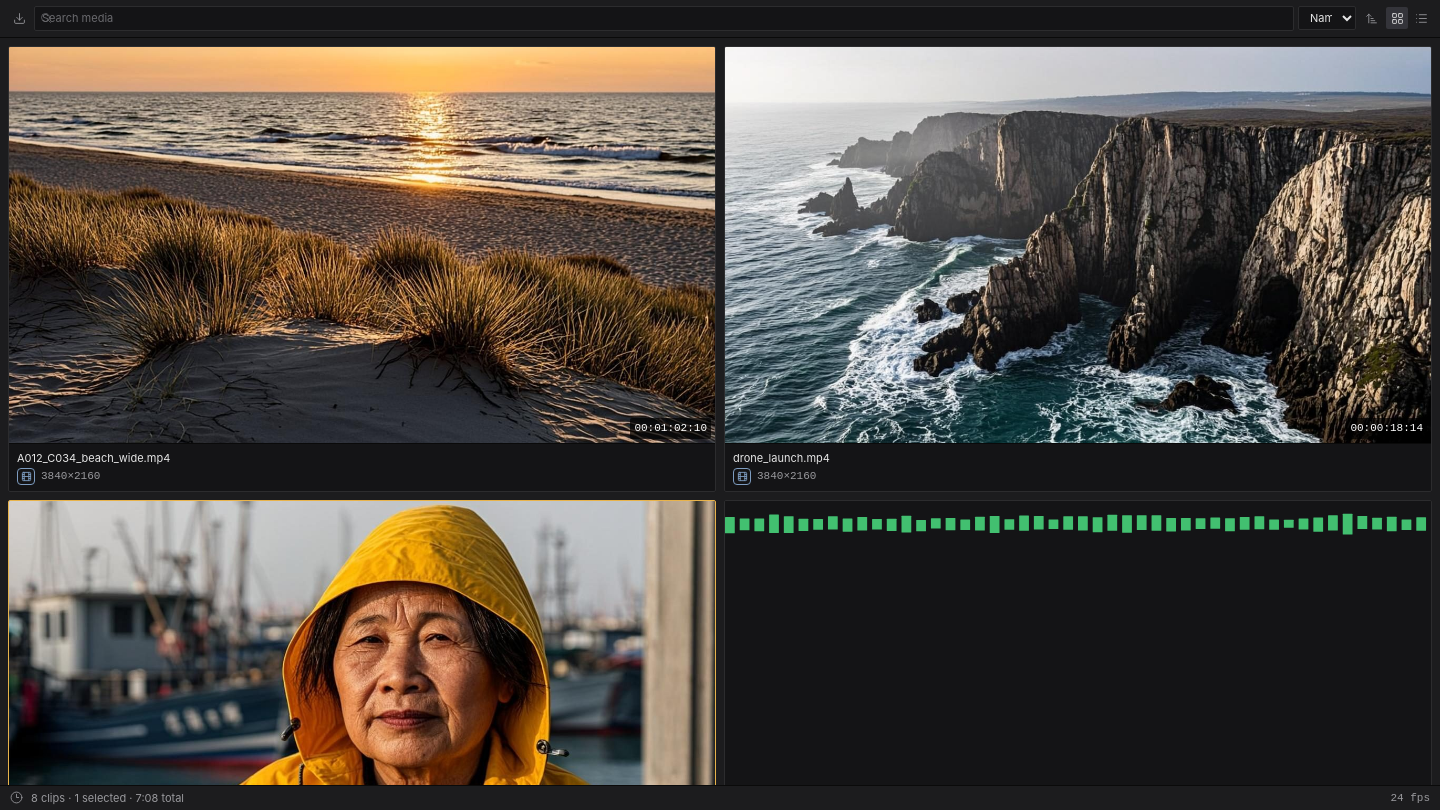
Test case: MediaPool (spec 18 §4.2) › sort select + direction button reorder the list and write the store
Select "Dur." in the dropdown named "Sort media" at {"x": 1327, "y": 18}, box [1298,6,1356,30]
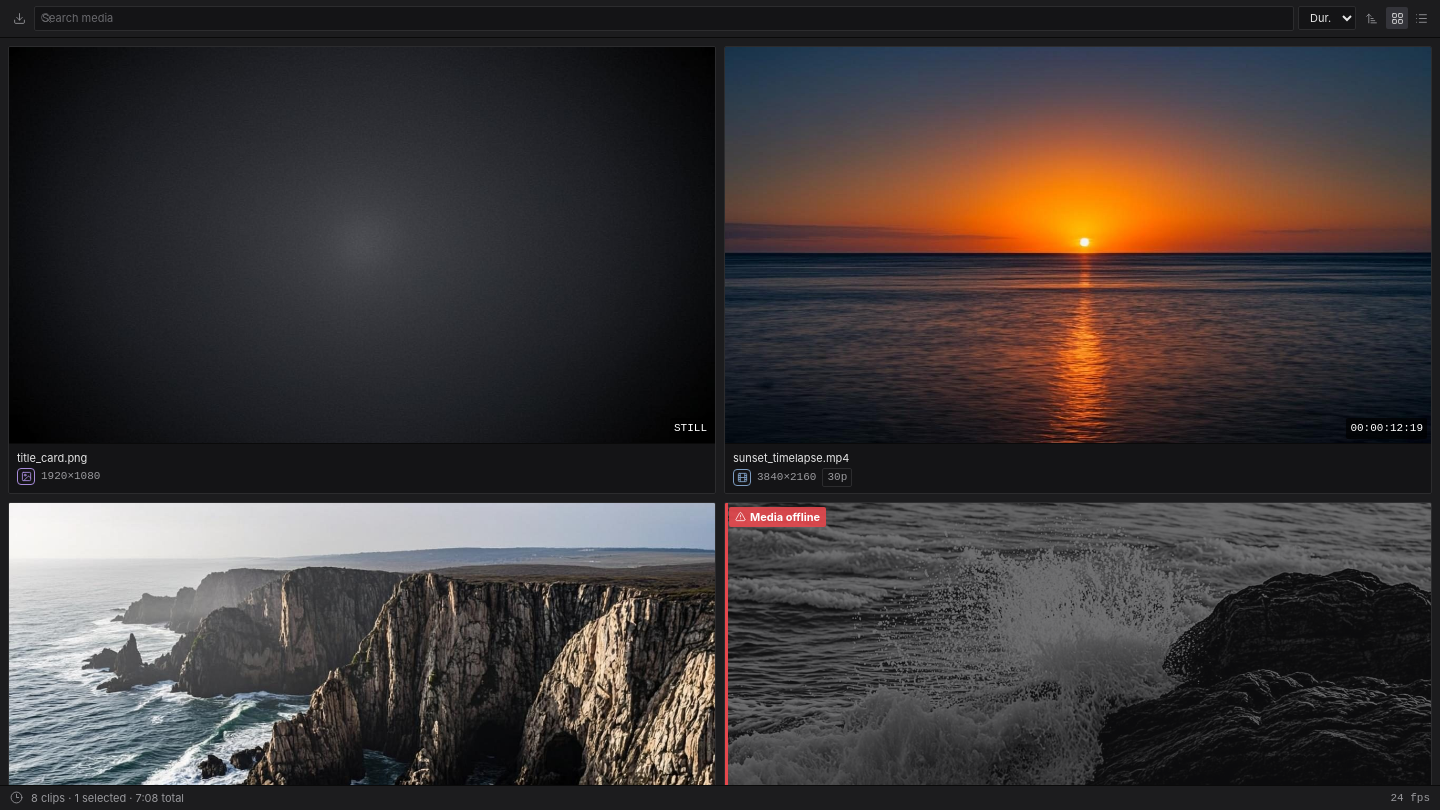
Now the option with test id "shell-mediapool-card" shows "title_card", box [8,46,716,494]
Click the button named "Sort ascending" at {"x": 1371, "y": 18}, box [1360,7,1382,29]
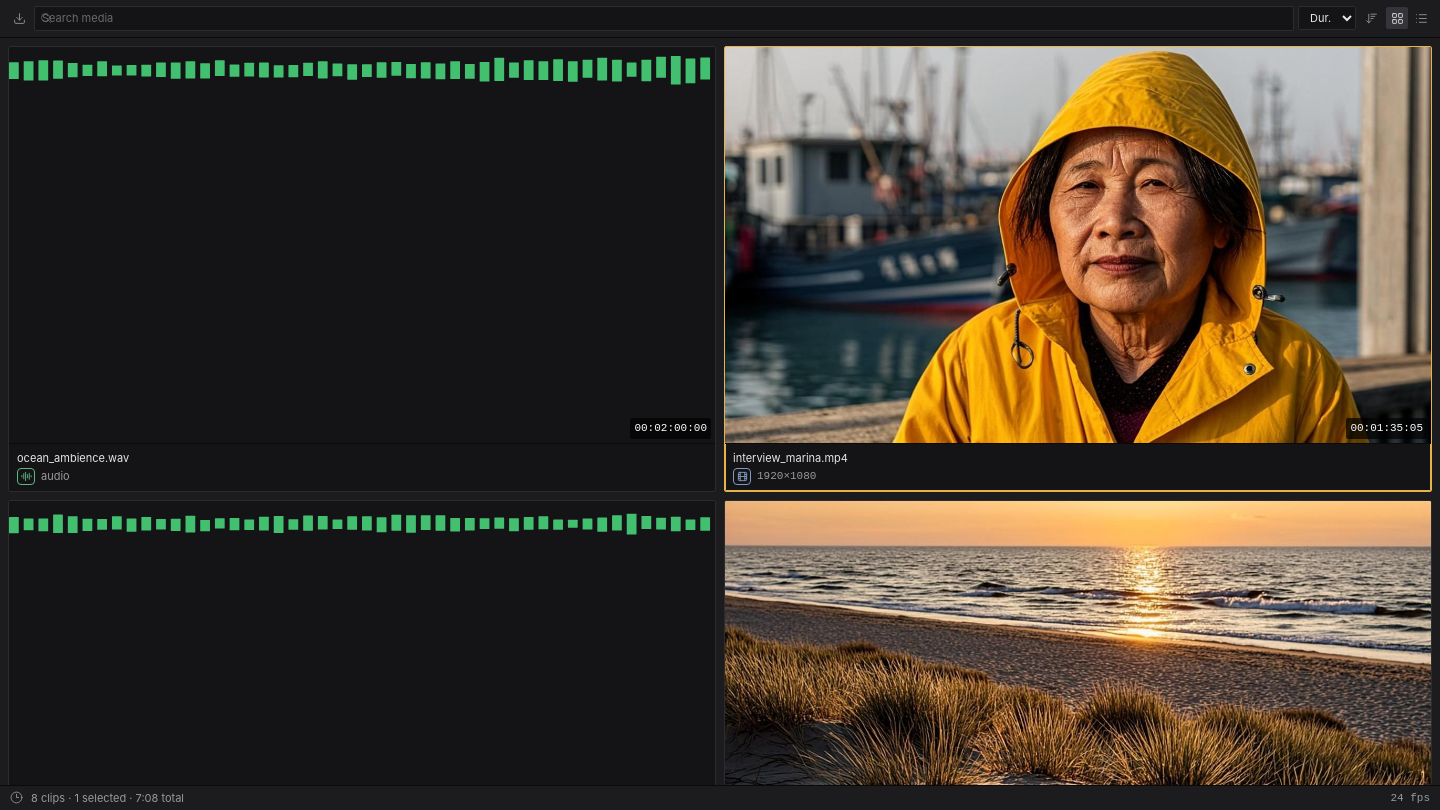
Now the button named "Sort descending" is shown, box [1360,7,1382,29]
Now the option with test id "shell-mediapool-card" shows "ocean_ambience", box [8,46,716,492]
